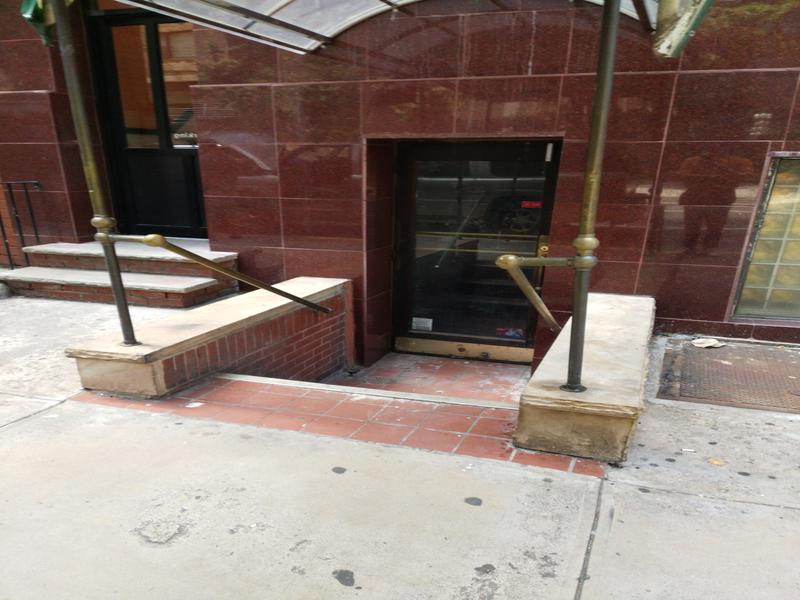door: (390, 136, 557, 370)
